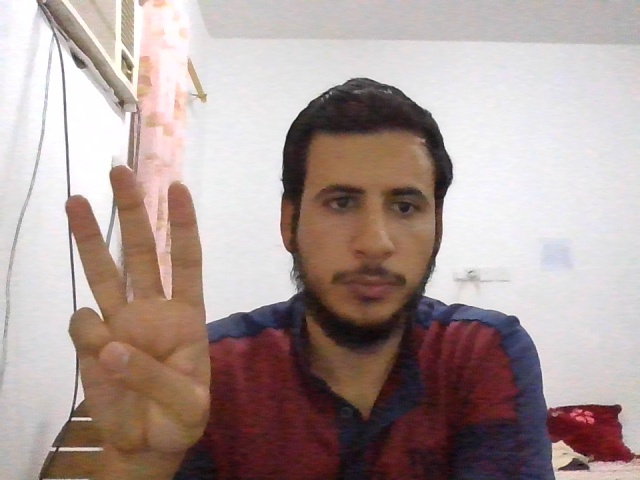Three: (65, 165, 212, 457)
